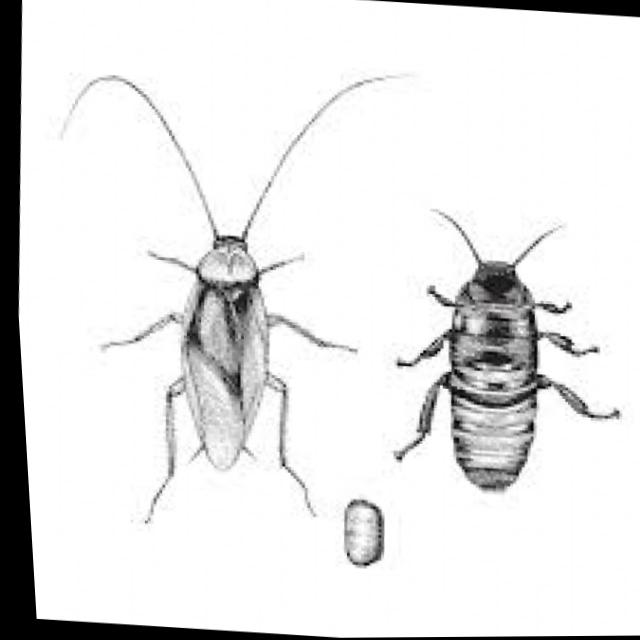Cockroach: (48, 47, 394, 592), (332, 165, 640, 539)
